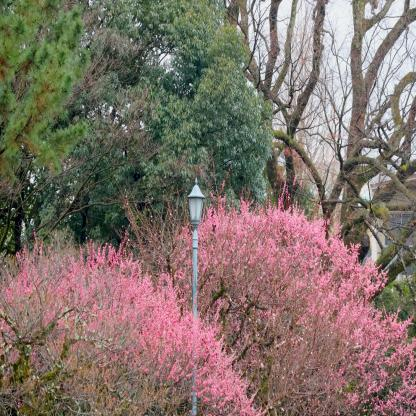Ume: (112, 169, 416, 416), (0, 218, 268, 416)
